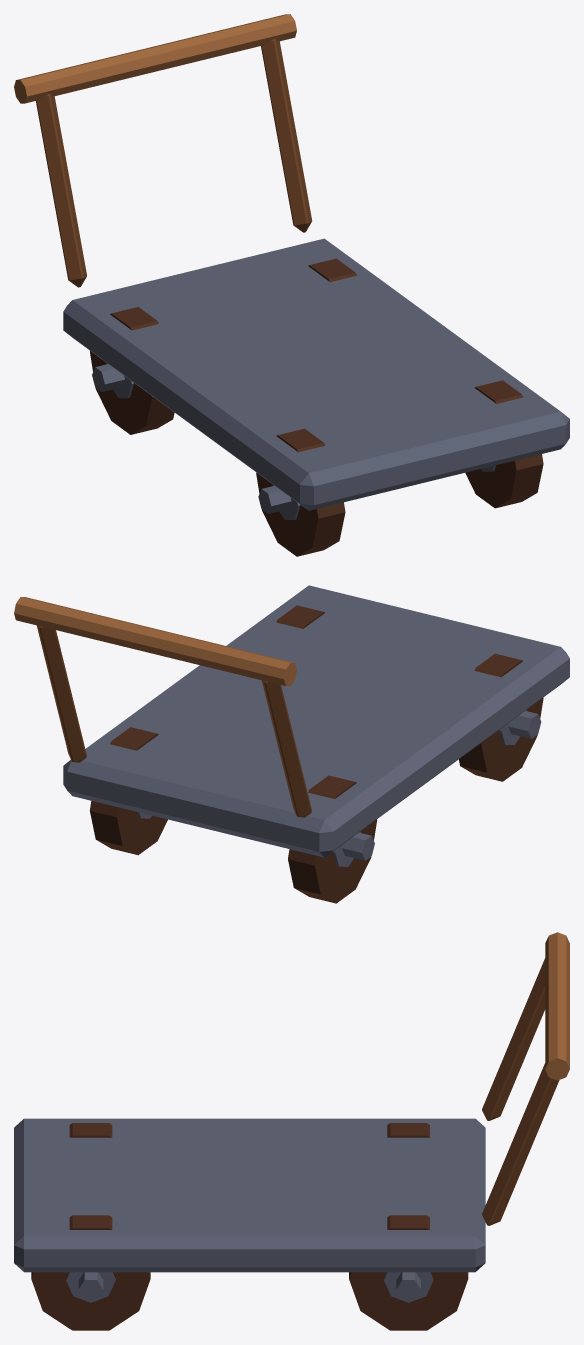
The model's file is vagone_base.glb.
3 renders of one model, top to bottom at view 1: azimuth 30°, elevation 25°; view 2: azimuth 150°, elevation 25°; view 3: azimuth 270°, elevation 25°, orthographic. The views are drawn at different scales.
Visible parts, largest first — view 1: vagone_base2; view 2: vagone_base2; view 3: vagone_base2.
Part boxes in pixels (<box>): vagone_base2: <box>14,14,569,556</box>; vagone_base2: <box>14,585,569,903</box>; vagone_base2: <box>14,932,569,1330</box>.
Bounding box in the file's own units: 0.6 × 0.6291 × 1.12.
